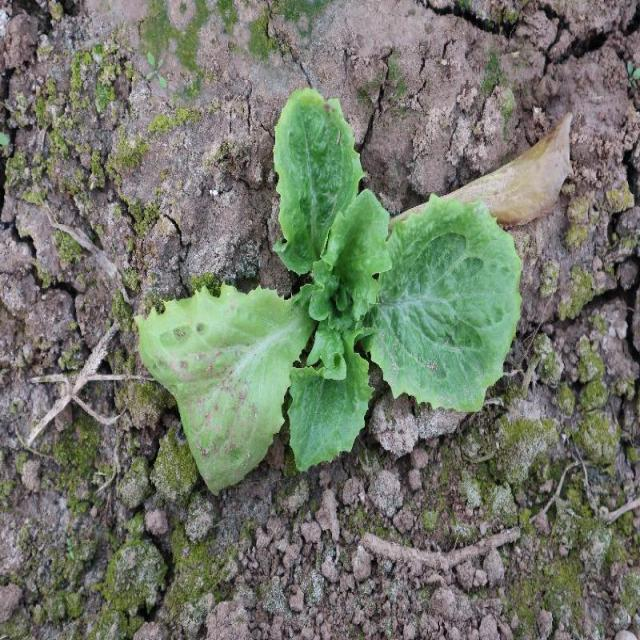crop: (271, 90, 520, 472)
